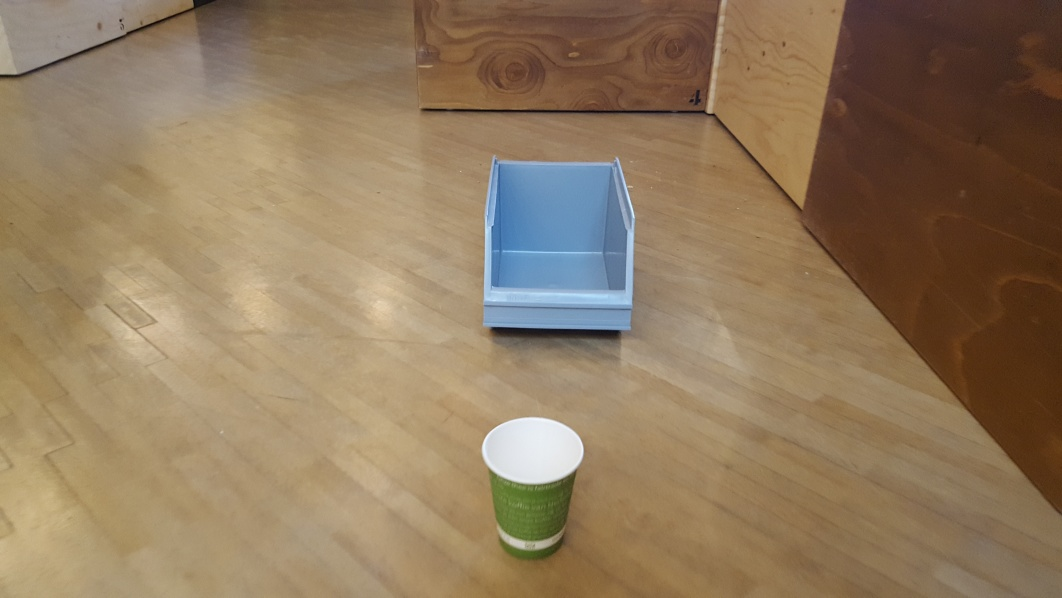cup: (478, 414, 587, 564)
tray: (484, 154, 636, 344)
